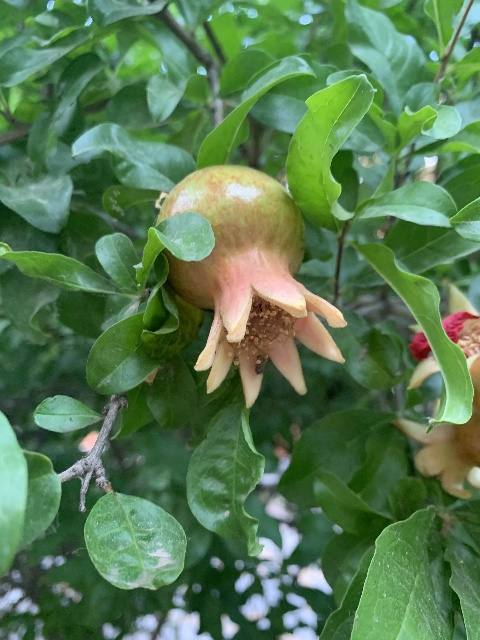early-fruit: (158, 165, 348, 406), (408, 281, 480, 462)
